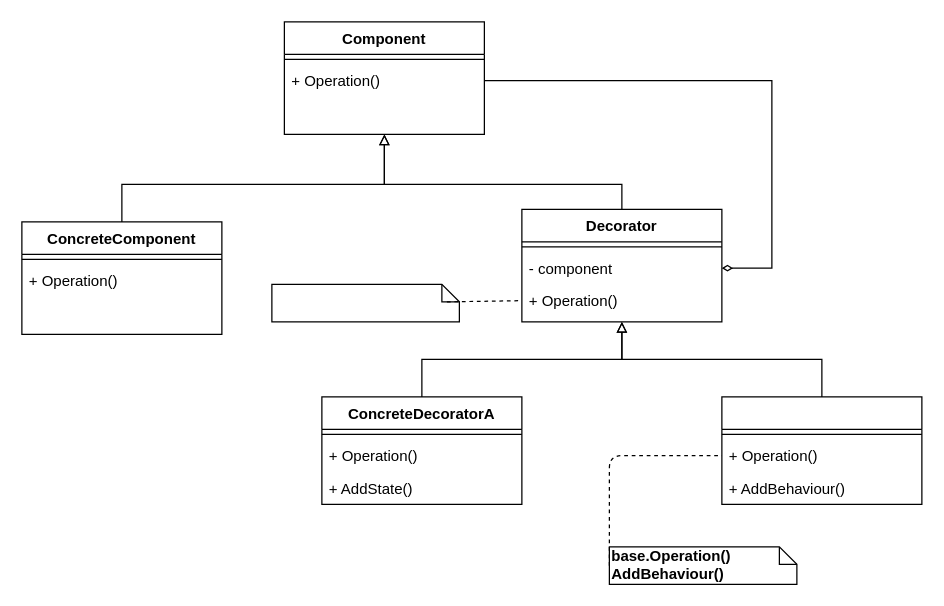
This 944x606 diagram has some shape labels left out. The shapes that lost their labels are listed below. From the top down, each one's box as (x1, y1, x2, y2) in pixels, then its label:
(271, 283, 459, 322): component.Operation()
(721, 396, 922, 504): ConcreteDecoratorB
